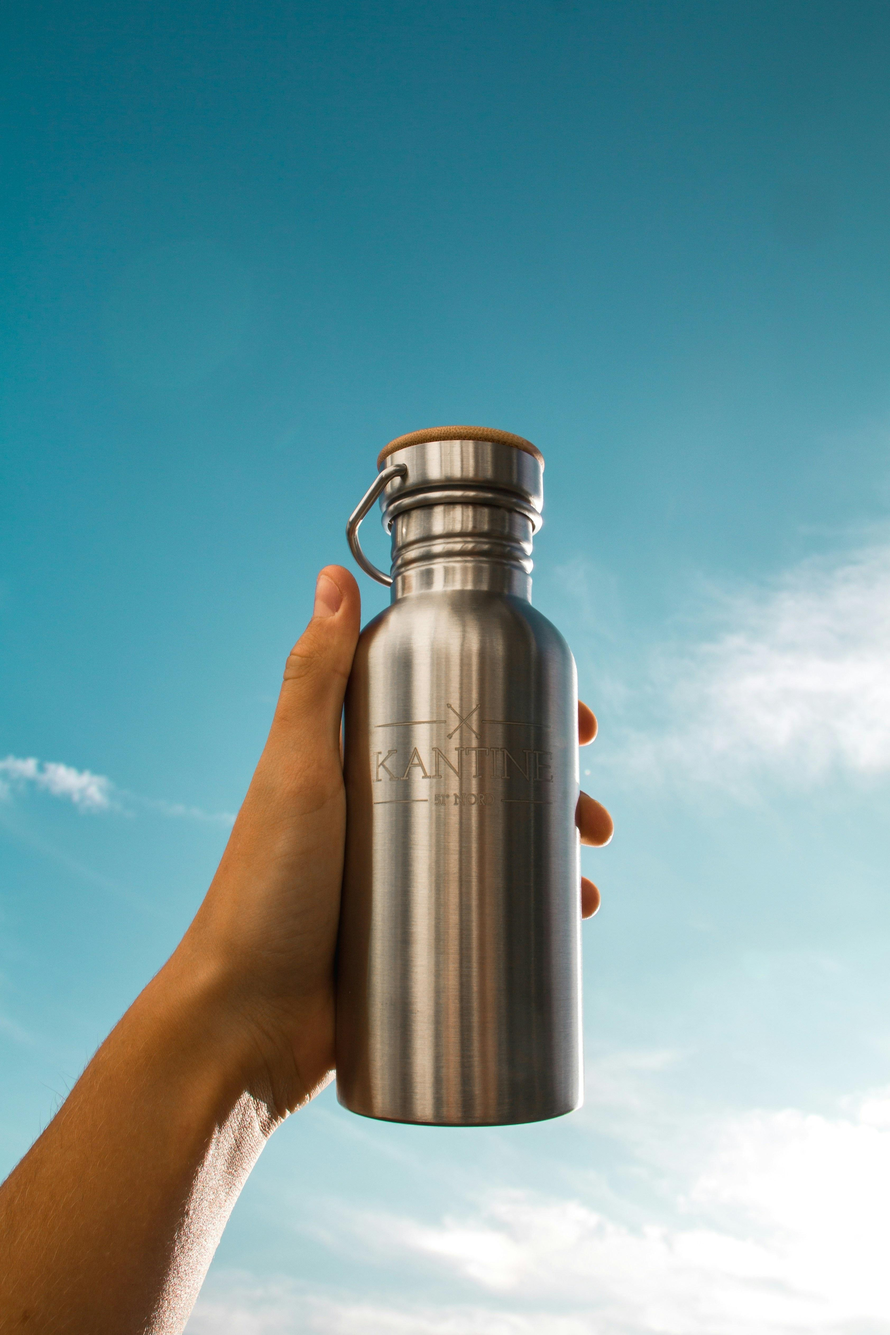Bottle-Detection: (312, 383, 613, 1200)
